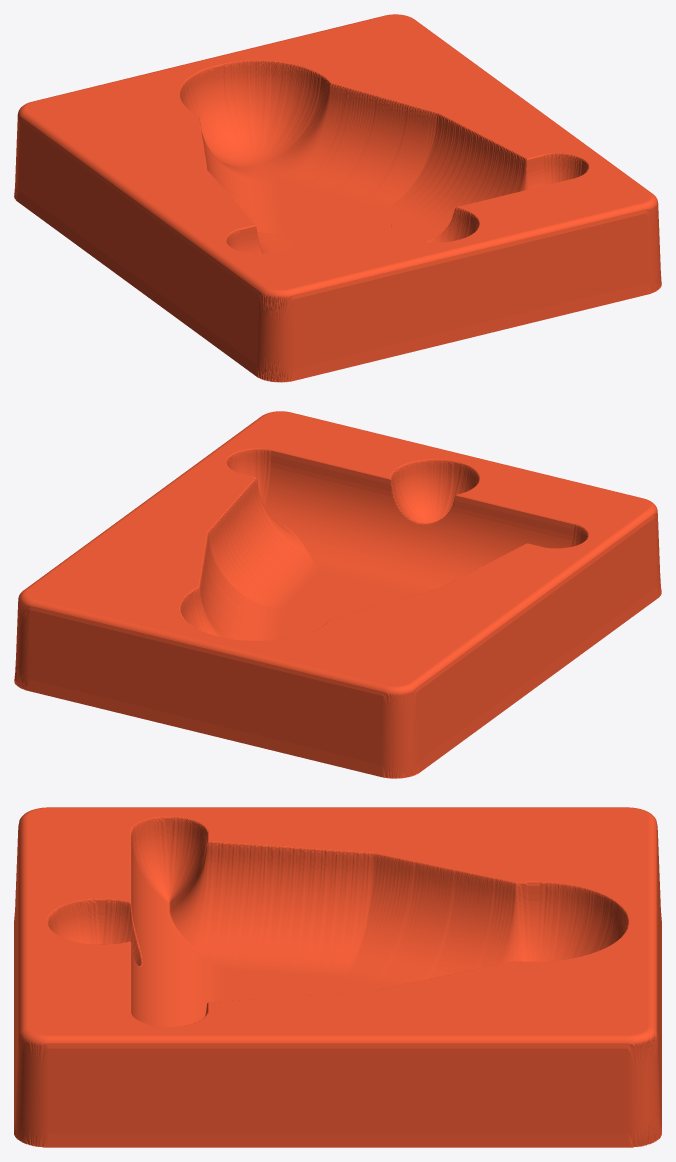
Rendered from mold.glb.
3 renders of one model, top to bottom at view 1: azimuth 30°, elevation 25°; view 2: azimuth 150°, elevation 25°; view 3: azimuth 270°, elevation 25°, orthographic. The views are drawn at different scales.
Parts seen in each view (by area): view 1: geometry_0; view 2: geometry_0; view 3: geometry_0.
Part boxes in pixels (bbox=[...]): geometry_0: bbox=[14, 14, 661, 382]; geometry_0: bbox=[14, 411, 661, 778]; geometry_0: bbox=[14, 807, 661, 1147].
Bounding box in the file's own units: 0.1488 × 0.031 × 0.1709.
